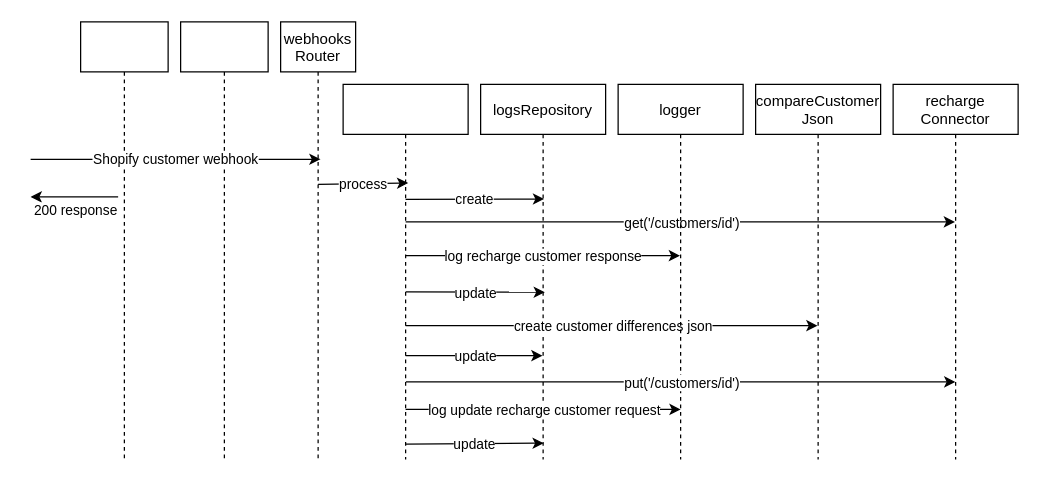
Some shapes in this 1040 by 481 pixel diagram are drawn without their labels. The box of each missing label's shape, as (x1, y1, x2, y2) in pixels:
accept Webhook: (79, 21, 168, 459)
authenticate Webhook: (179, 21, 268, 459)
webhooks Controller: (342, 83, 468, 459)
